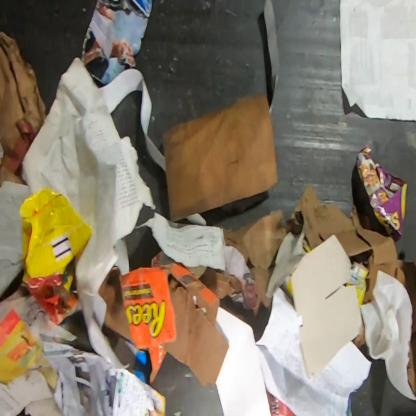cardboard: (290, 182, 415, 398), (98, 251, 230, 388), (162, 93, 278, 224), (287, 234, 369, 379), (20, 188, 95, 326), (212, 208, 288, 270), (184, 265, 274, 316), (352, 326, 366, 349)
